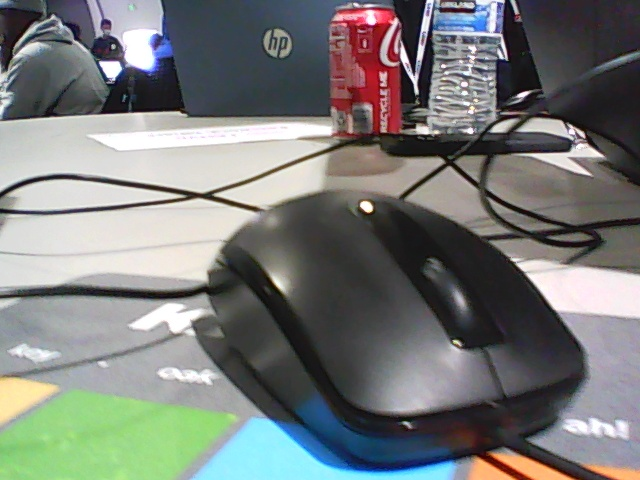mouse: (207, 189, 586, 468)
